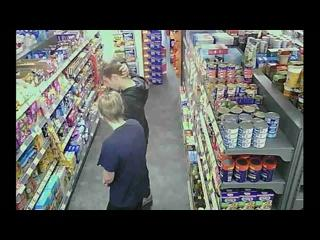Normal: (96, 90, 152, 210), (100, 58, 150, 143)
